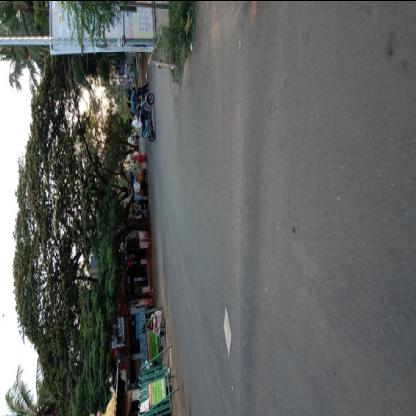speed-bumps: (224, 0, 268, 414)
